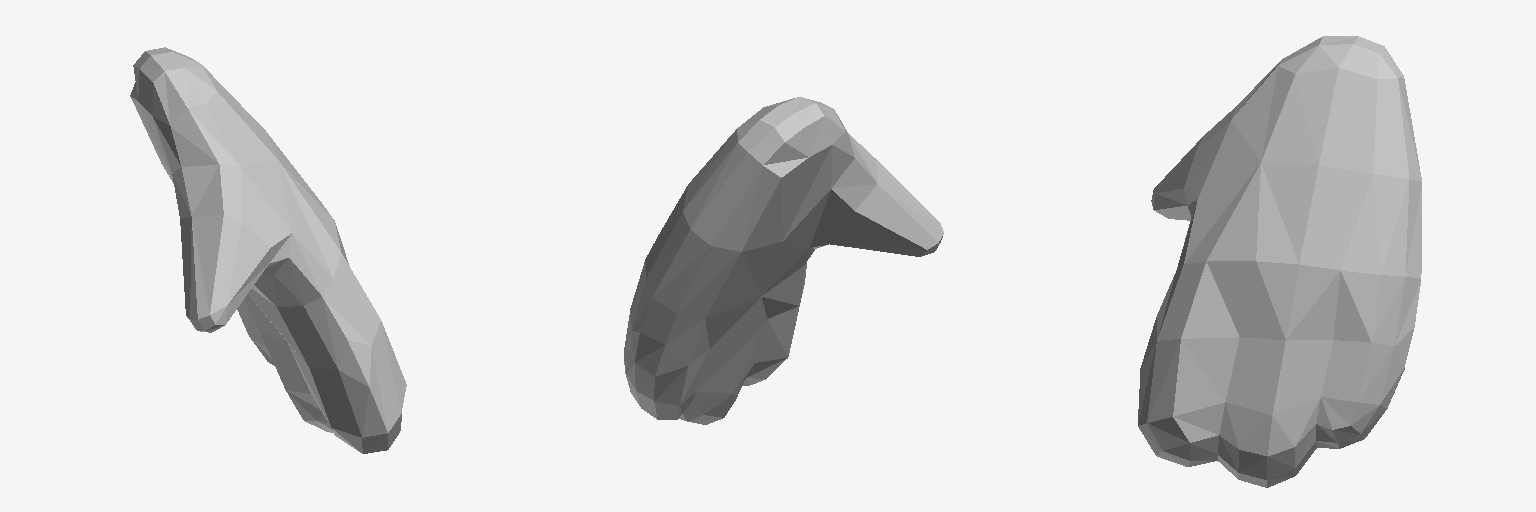
File: Hand_Open_L.obj
The picture shows the model from 3 angles: view 1: azimuth 30°, elevation 25°; view 2: azimuth 150°, elevation 25°; view 3: azimuth 270°, elevation 25°; orthographic projection.
Visible parts, largest first — view 1: Hand_Open_L; view 2: Hand_Open_L; view 3: Hand_Open_L.
Boxes of the visible parts, <box> form: Hand_Open_L: <box>130,47,406,453</box>; Hand_Open_L: <box>624,97,943,424</box>; Hand_Open_L: <box>1138,36,1421,487</box>.
Bounding box in the file's own units: 0.2453 × 0.374 × 0.2555.